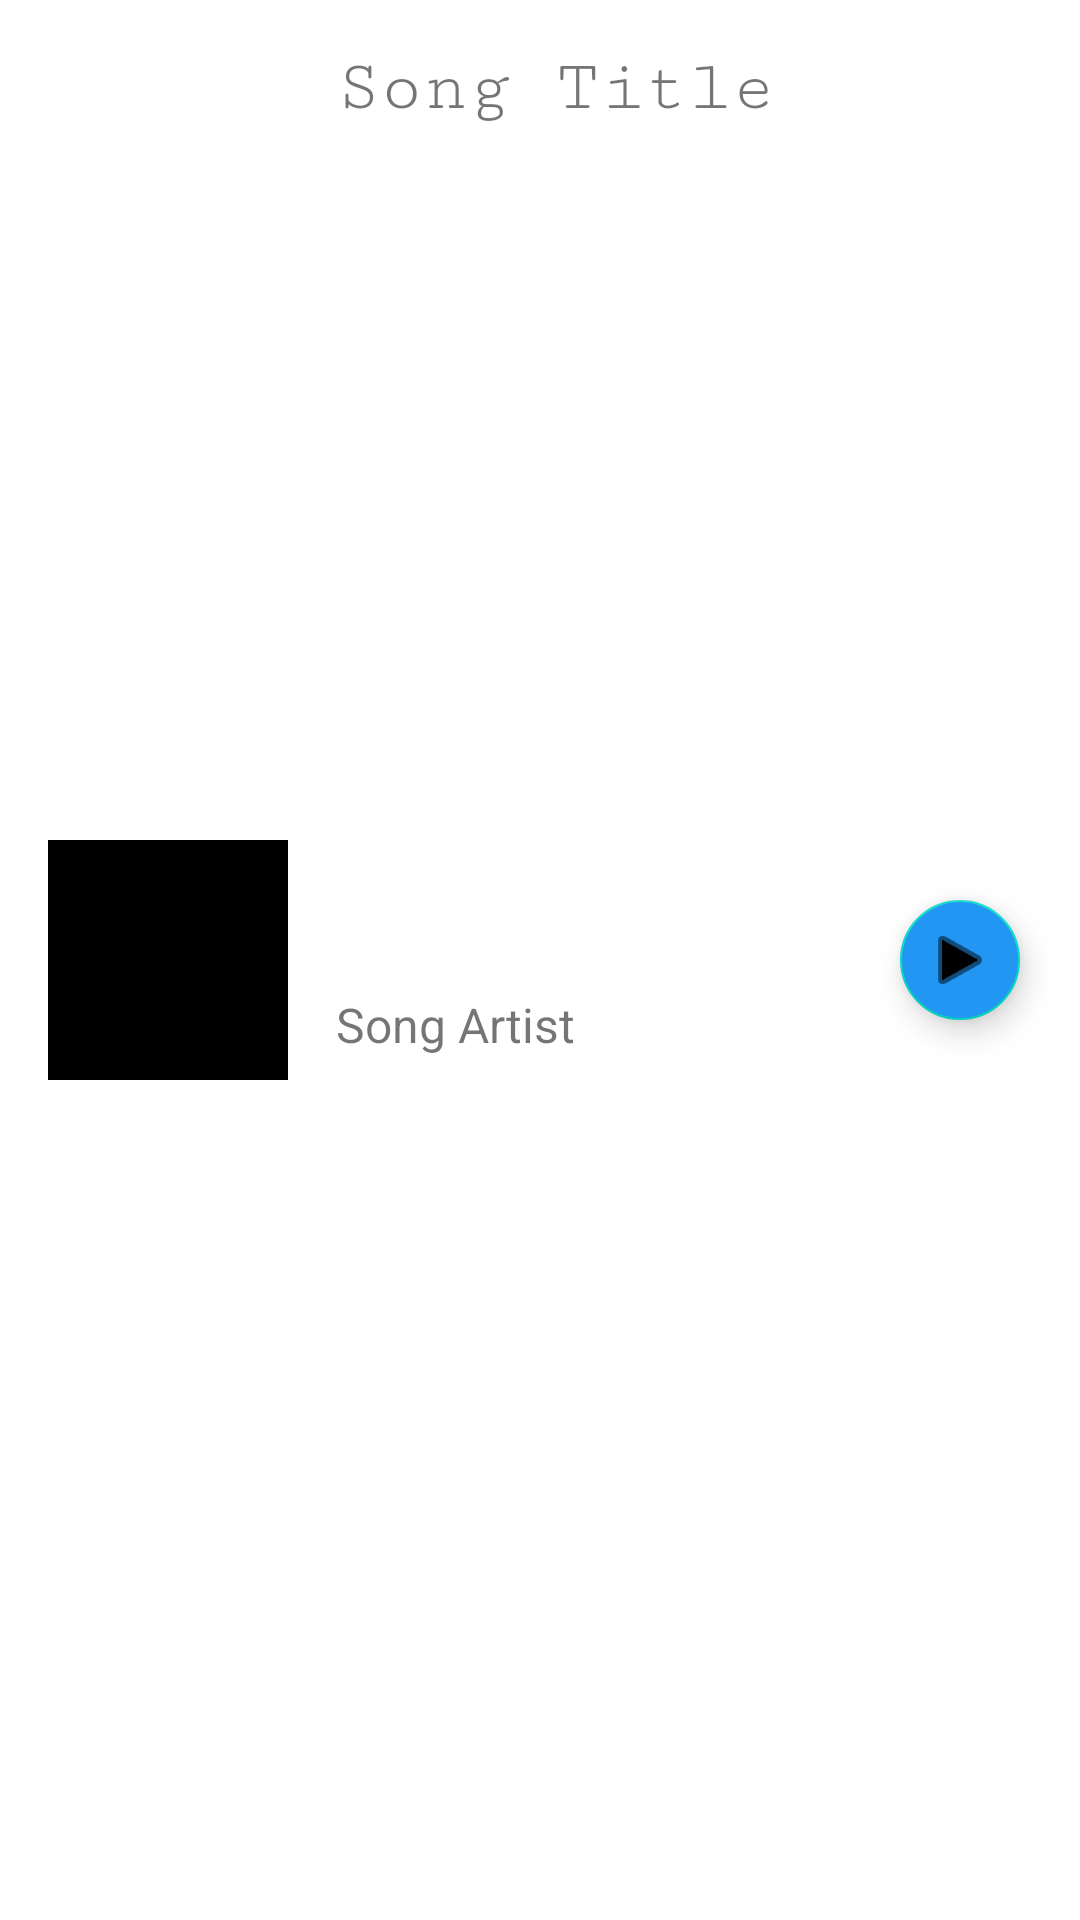

Icon bounding boxes for this 1080x1920 phone screenshot, format (x1, y1, x2, y2):
play: (900, 900, 1023, 1027)
